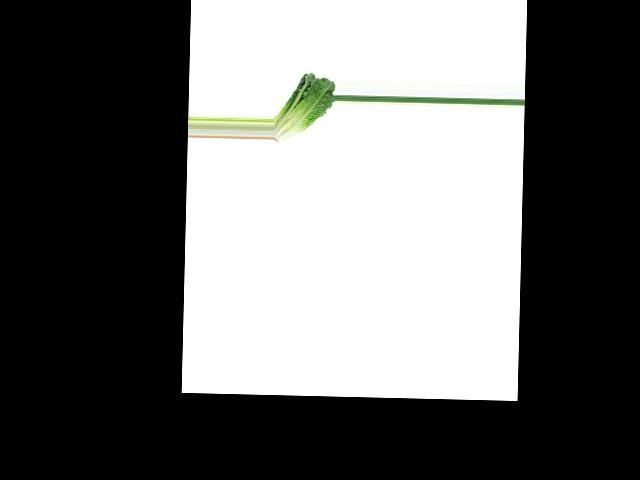lettuce: (273, 71, 335, 143)
